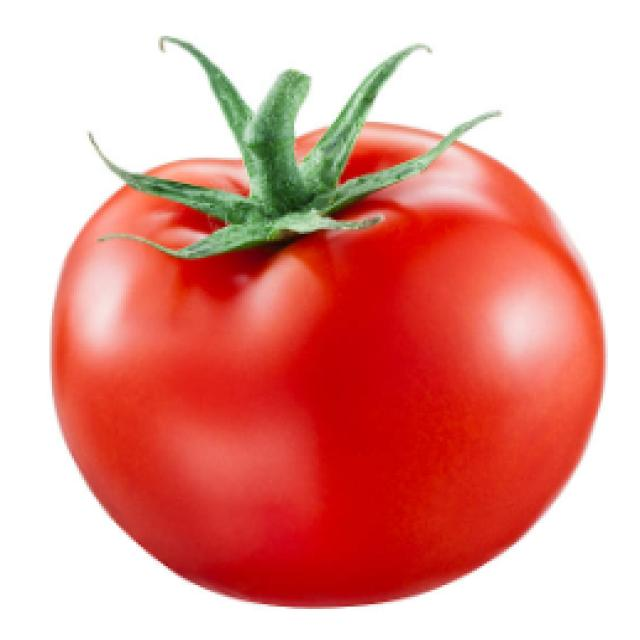Tomato: (85, 35, 608, 603)
